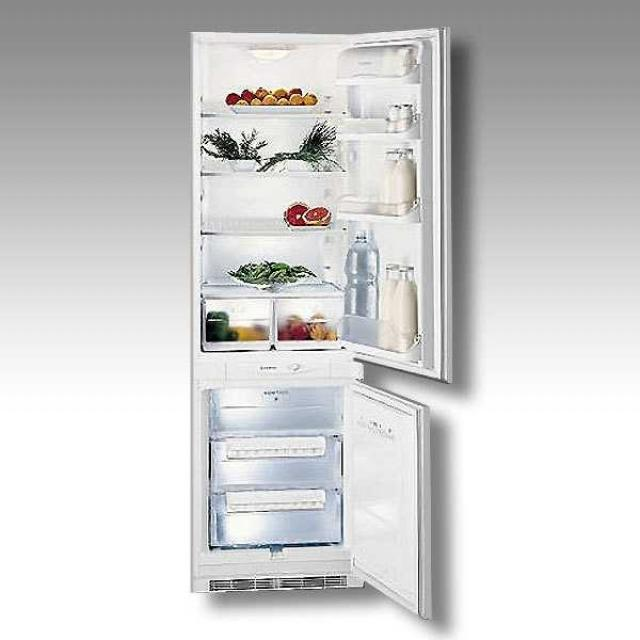refrigerator: (188, 29, 432, 598)
